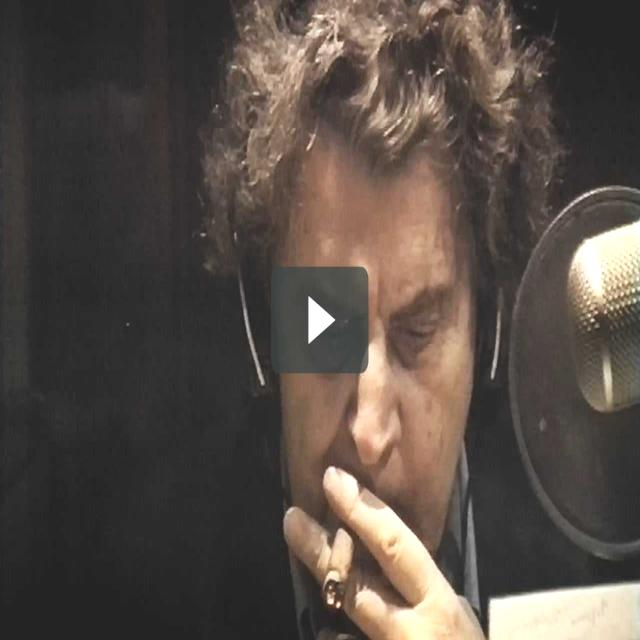Smooking: (308, 500, 362, 625)
